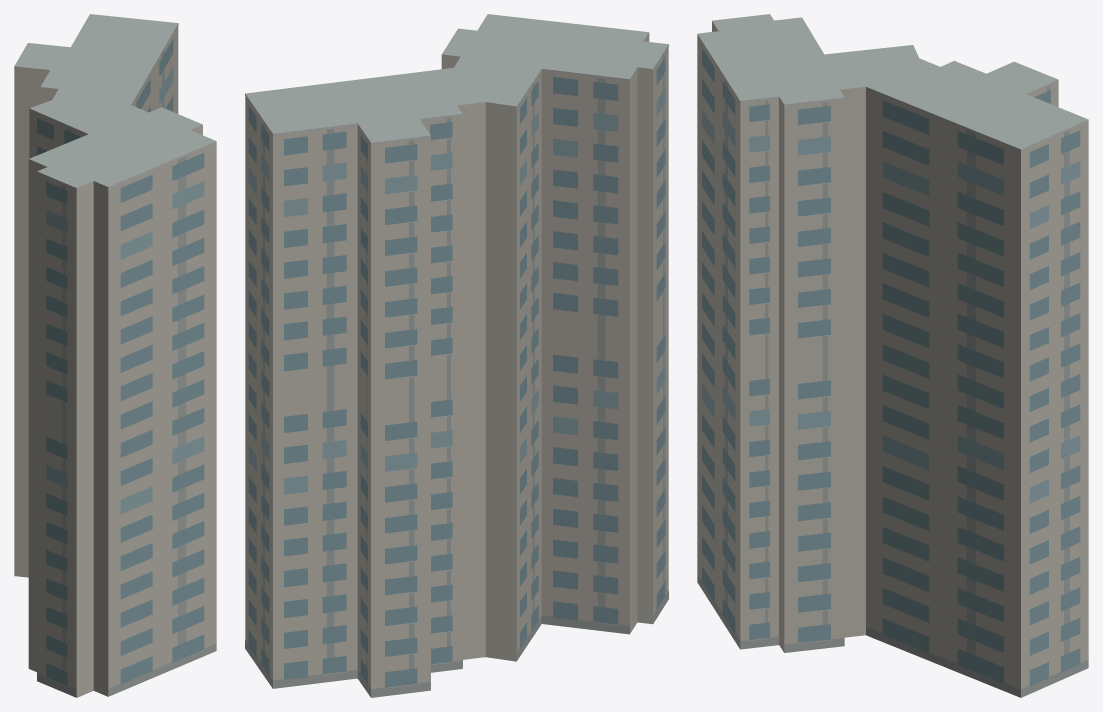
The model's file is residential-9c8f3d7b-18d0-4fc7-a9a5-8645107108cb.glb.
The picture shows the model from 3 angles, left to right: view 1: azimuth 30°, elevation 25°; view 2: azimuth 150°, elevation 25°; view 3: azimuth 270°, elevation 25°; orthographic projection. The views are drawn at different scales.
Parts seen in each view (by area): view 1: residential-9c8f3d7b-18d0-4fc7-a9a5-8645107108cb.tmp; view 2: residential-9c8f3d7b-18d0-4fc7-a9a5-8645107108cb.tmp; view 3: residential-9c8f3d7b-18d0-4fc7-a9a5-8645107108cb.tmp.
Part boxes in pixels (box(x1,y1,x2,y2)): residential-9c8f3d7b-18d0-4fc7-a9a5-8645107108cb.tmp: box(14, 14, 216, 697); residential-9c8f3d7b-18d0-4fc7-a9a5-8645107108cb.tmp: box(245, 14, 668, 697); residential-9c8f3d7b-18d0-4fc7-a9a5-8645107108cb.tmp: box(697, 14, 1088, 697).
Bounding box in the file's own units: 29.08 × 54.9 × 35.52.
